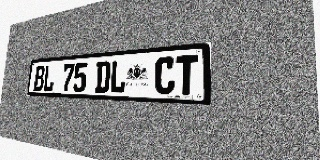5: (73, 62, 87, 92)
7: (61, 63, 75, 92)
B: (33, 65, 45, 91)
C: (154, 56, 175, 95)
D: (95, 61, 111, 93)
L: (109, 60, 127, 93), (43, 65, 55, 91)
T: (175, 55, 198, 95)
